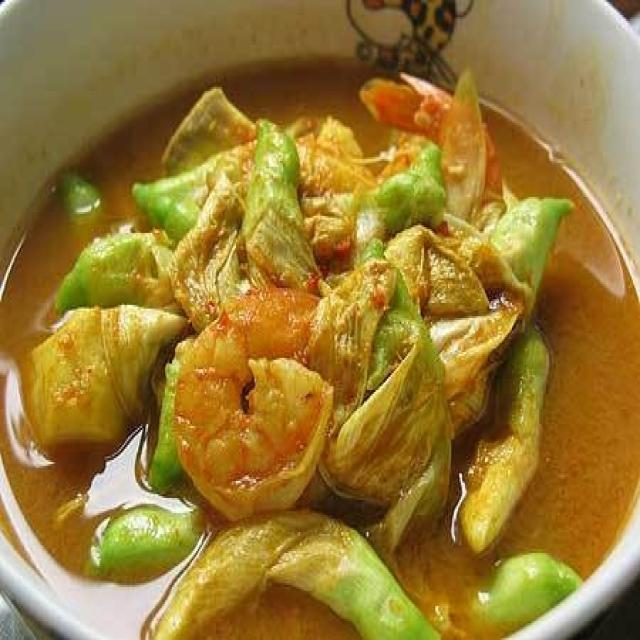汤锅炖物: (16, 40, 613, 623)
